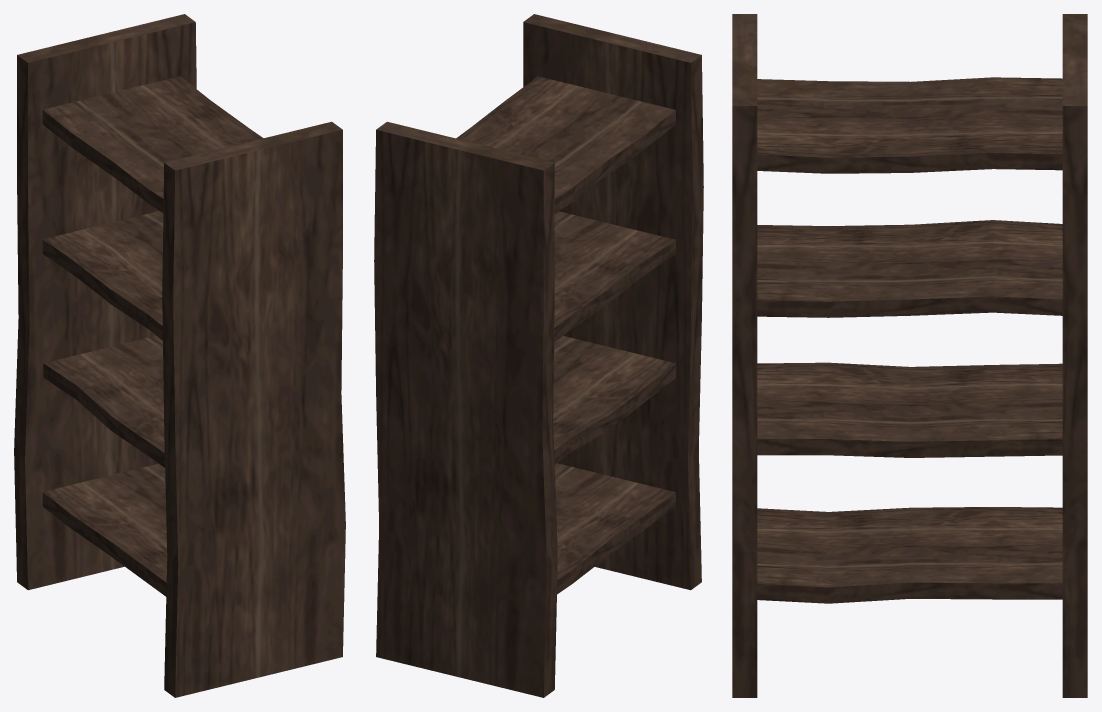
The model's file is Shelf.L.fbx.
The picture shows the model from 3 angles, left to right: view 1: azimuth 30°, elevation 25°; view 2: azimuth 150°, elevation 25°; view 3: azimuth 270°, elevation 25°; orthographic projection. The views are drawn at different scales.
Visible parts, largest first — view 1: Cube.037; view 2: Cube.037; view 3: Cube.037.
Boxes of the visible parts, x1=… form: Cube.037: x1=14, y1=14, x2=345, y2=697; Cube.037: x1=374, y1=14, x2=703, y2=697; Cube.037: x1=732, y1=14, x2=1087, y2=697.
Bounding box in the file's own units: 1.76 × 2.77 × 5.1.
